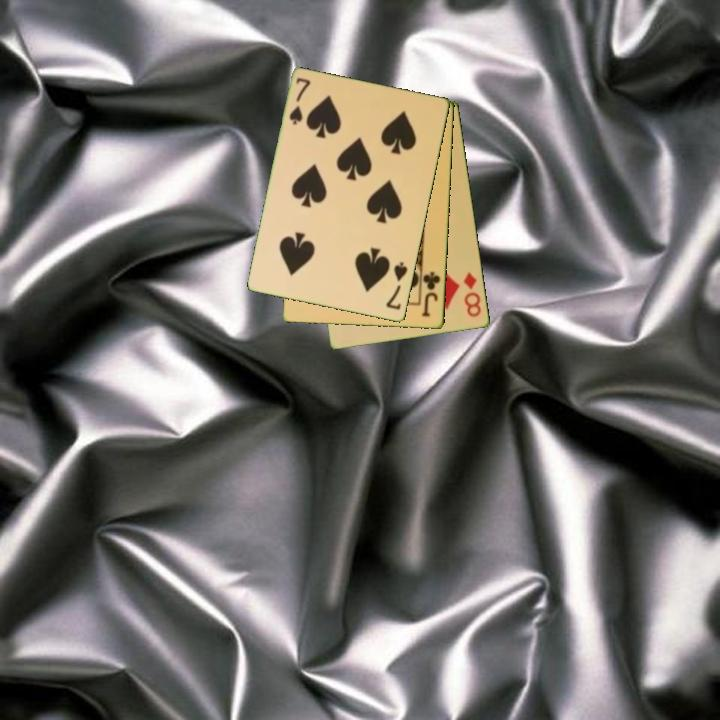7s: (383, 259, 411, 313), (286, 74, 314, 128)
8d: (460, 269, 484, 320)
Jc: (419, 268, 443, 320)
